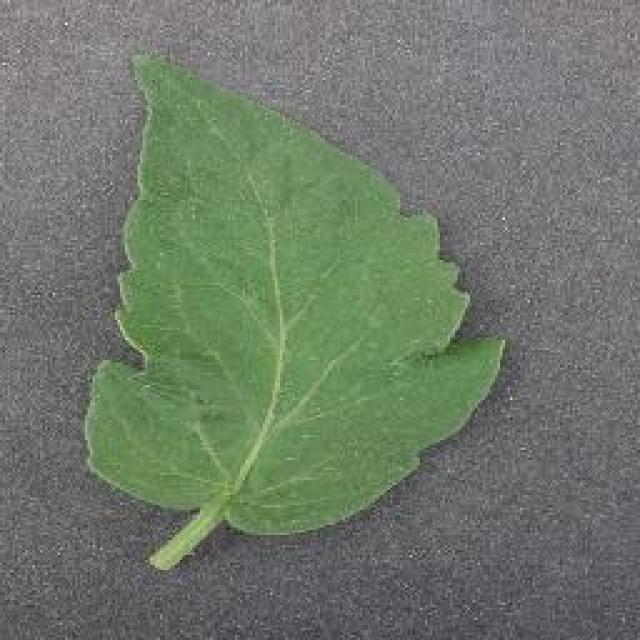healthy: (84, 61, 504, 573)
